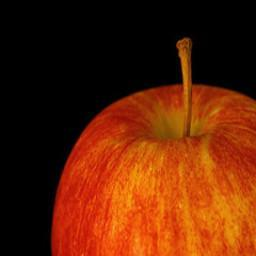apple: (49, 75, 255, 252)
